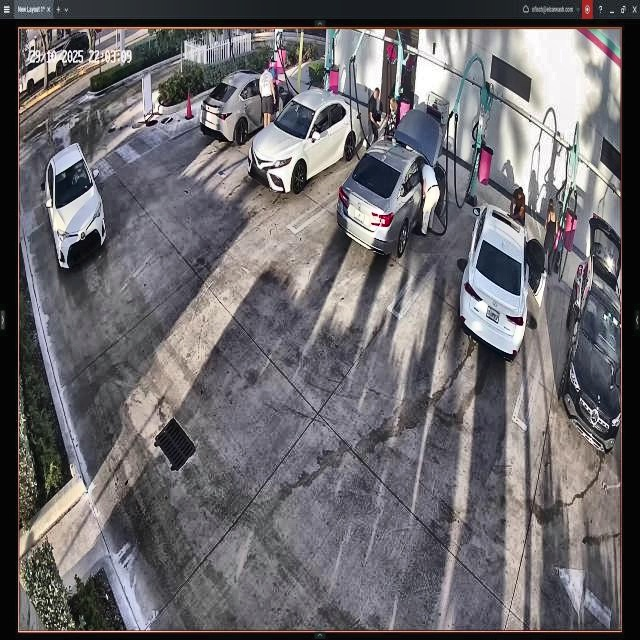Car: (336, 110, 449, 255), (455, 204, 546, 357), (252, 88, 361, 196), (203, 70, 294, 143)
